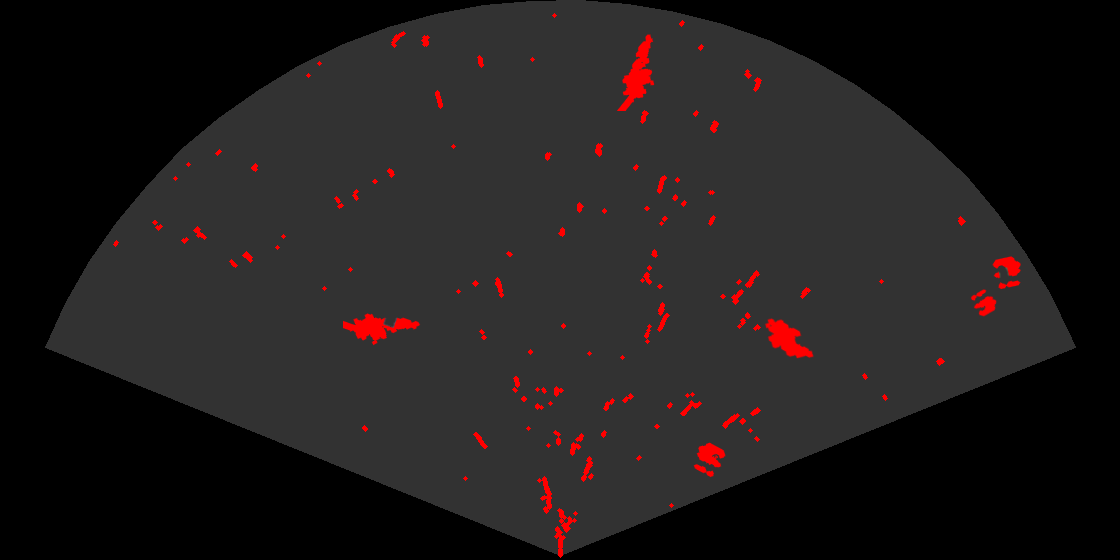AUV: (763, 317, 816, 360)
ball: (692, 441, 727, 479), (991, 255, 1022, 291), (969, 288, 998, 318)
frogman: (615, 33, 656, 111), (343, 312, 422, 347)
